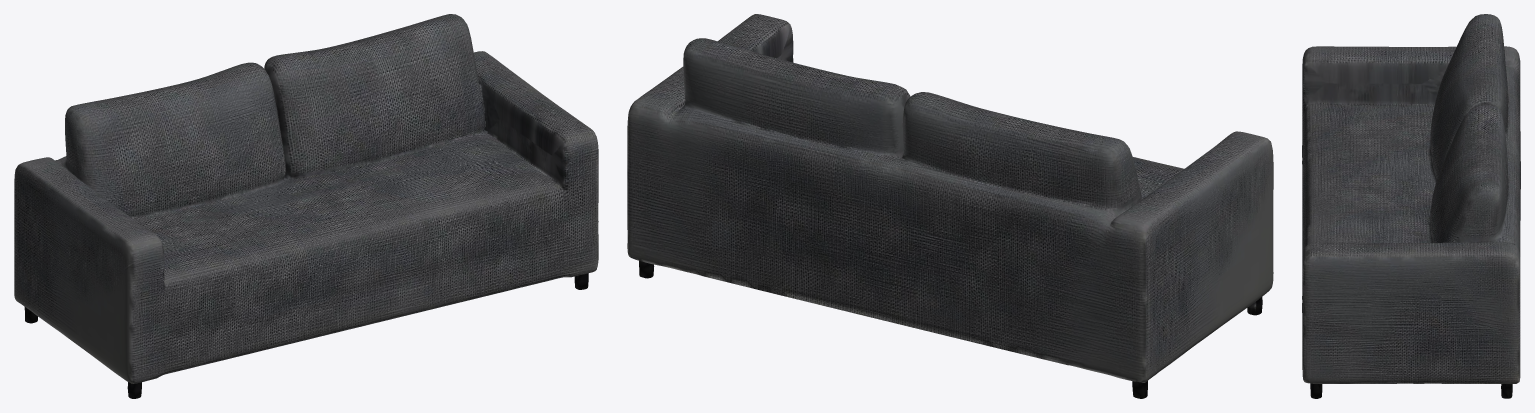
File: web.glb
The picture shows the model from 3 angles, left to right: view 1: azimuth 30°, elevation 25°; view 2: azimuth 150°, elevation 25°; view 3: azimuth 270°, elevation 25°; orthographic projection. The views are drawn at different scales.
Visible parts, largest first — view 1: model; view 2: model; view 3: model.
Part boxes in pixels (<box>): model: <box>14,14,598,398</box>; model: <box>627,14,1273,398</box>; model: <box>1302,14,1520,398</box>.
Size of the model in its own units: 2 by 0.8673 by 0.8709.
Materials: 1 (1 with a texture image).
